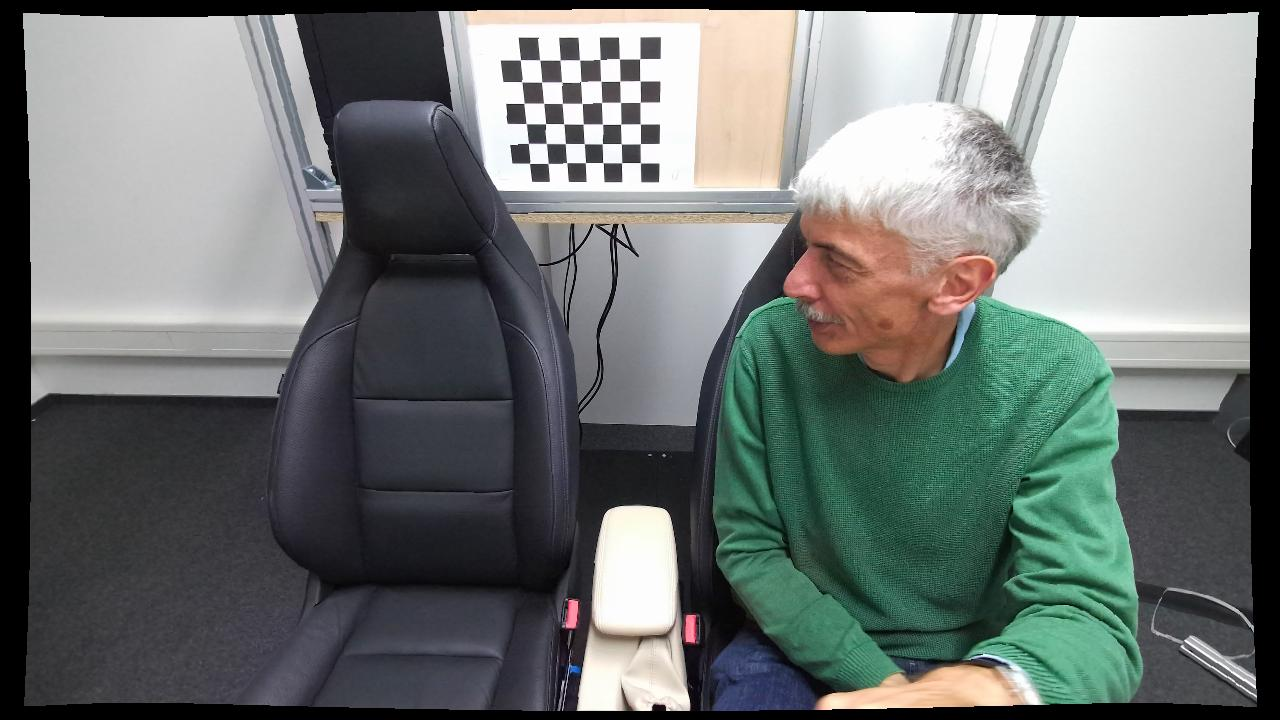Distracted: (706, 99, 1139, 707)
